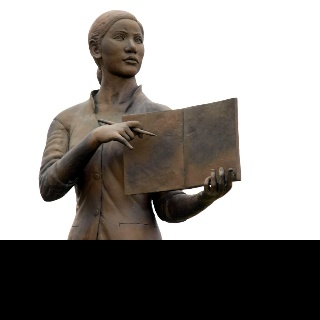without_mask: (99, 17, 144, 77)
